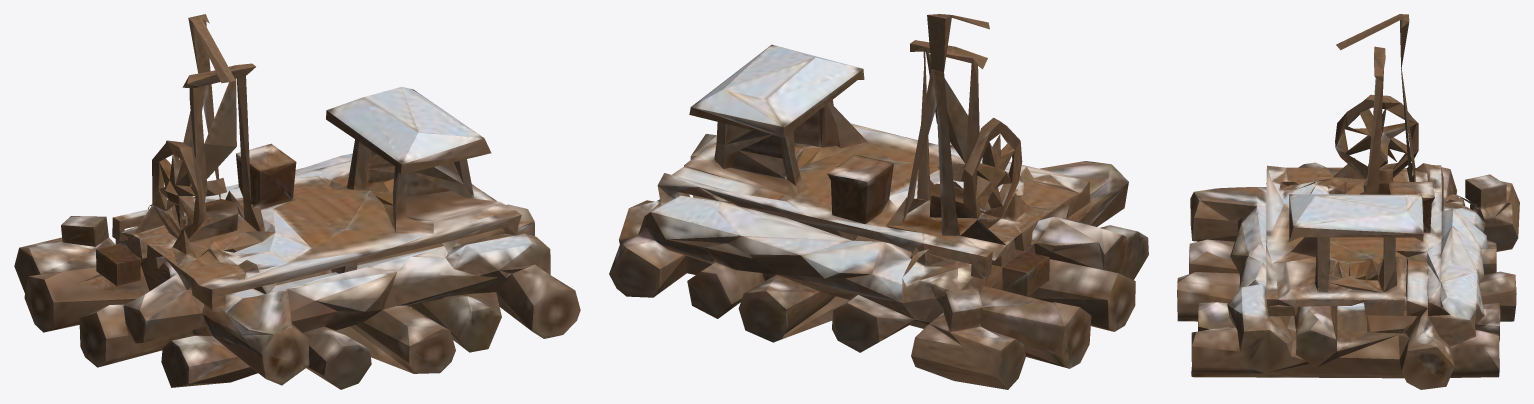
Rendered from crane.glb.
3 views of the same model, side by side, from view 1: azimuth 30°, elevation 25°; view 2: azimuth 150°, elevation 25°; view 3: azimuth 270°, elevation 25° (orthographic). The views are drawn at different scales.
Bounding box in the file's own units: 1.9 × 1.25 × 1.51.
1 material, 1 textured.
